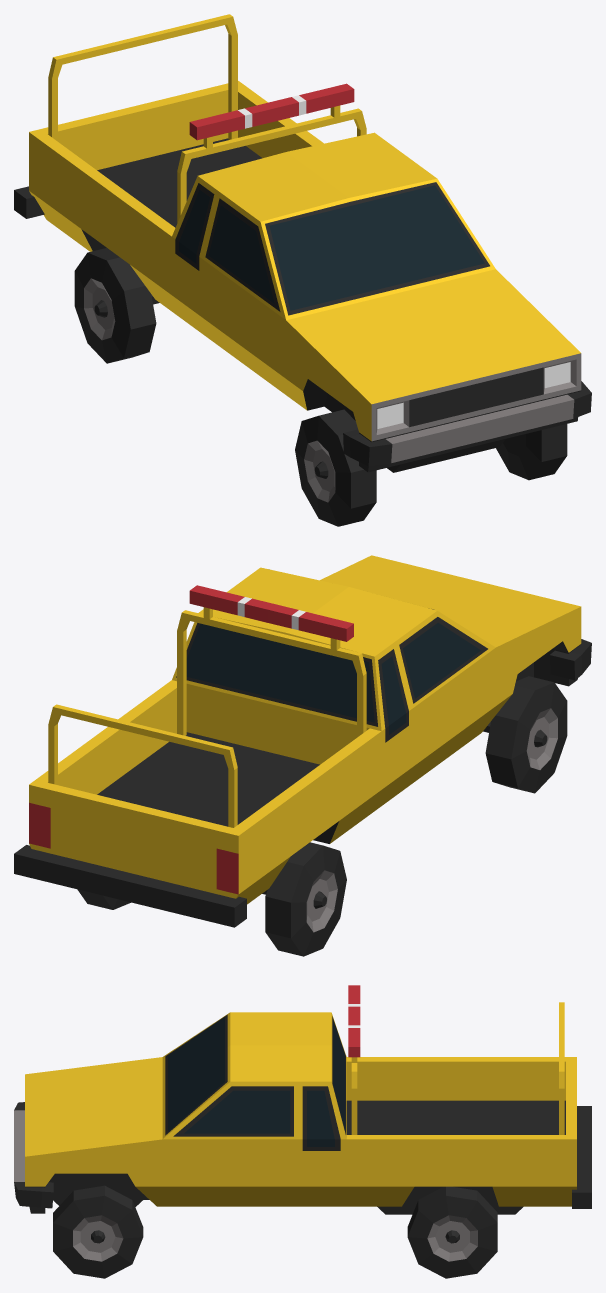
Rendered from car-baywatch.glb.
3 renders of one model, top to bottom at view 1: azimuth 30°, elevation 25°; view 2: azimuth 150°, elevation 25°; view 3: azimuth 270°, elevation 25°, orthographic. The views are drawn at different scales.
Parts seen in each view (by area): view 1: car-baywatch-base, car-baywatch-wheel_BR, car-baywatch-wheel_FR, car-baywatch-wheel_FL; view 2: car-baywatch-base, car-baywatch-wheel_FR, car-baywatch-wheel_BR; view 3: car-baywatch-base, car-baywatch-wheel_FL, car-baywatch-wheel_BL.
Boxes of the visible parts, x1,y1,x2,y2 form: car-baywatch-base: (14, 14, 591, 472); car-baywatch-wheel_BR: (74, 248, 156, 363); car-baywatch-wheel_FR: (295, 409, 376, 526); car-baywatch-wheel_FL: (496, 424, 567, 480); car-baywatch-base: (14, 555, 591, 927); car-baywatch-wheel_FR: (485, 676, 567, 793); car-baywatch-wheel_BR: (265, 842, 346, 956); car-baywatch-base: (14, 985, 591, 1214); car-baywatch-wheel_FL: (53, 1185, 143, 1278); car-baywatch-wheel_BL: (407, 1186, 497, 1278).
Bounding box in the file's own units: 1.96 × 2.22 × 5.27.
1 material, 1 textured.
